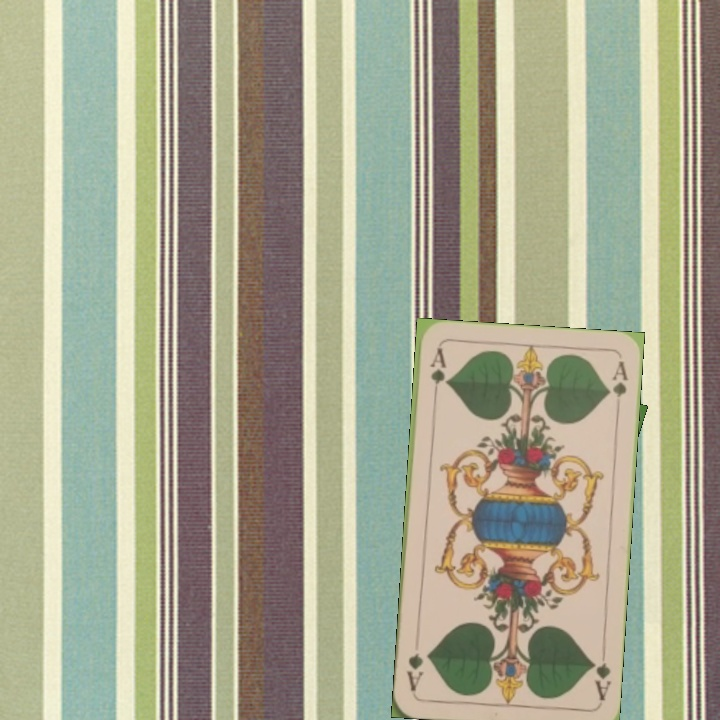GA: (587, 645, 614, 703), (426, 344, 448, 403)
